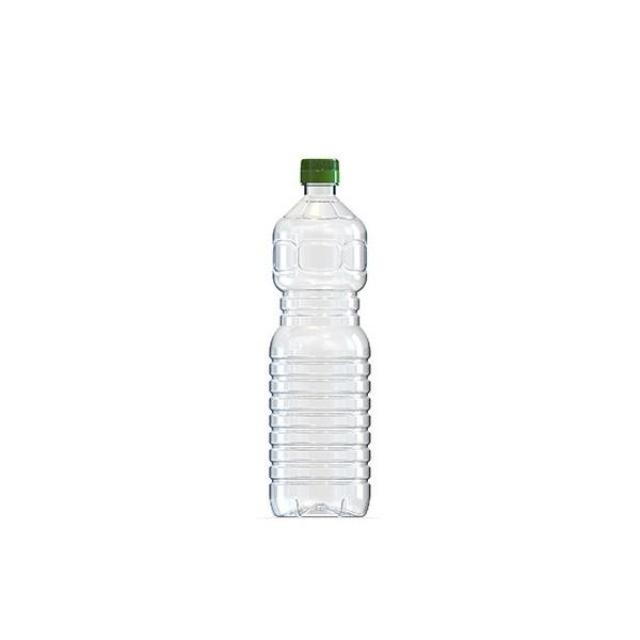bottle: (232, 145, 403, 548)
